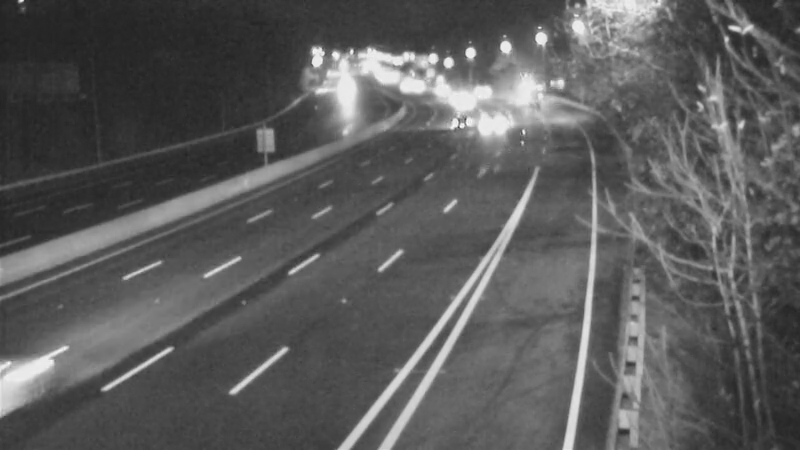vehicle: (453, 68, 503, 118), (412, 61, 462, 111), (436, 77, 486, 127), (504, 69, 554, 119), (433, 98, 483, 148), (464, 98, 514, 148)
